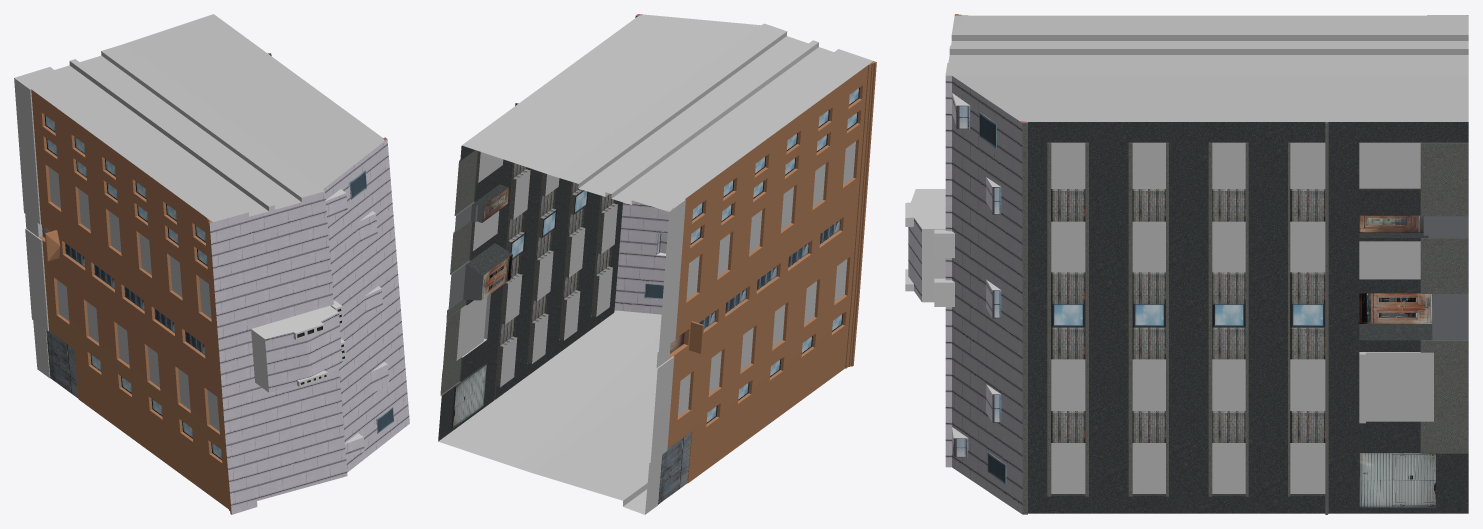
Rendered from Aia_5a.obj.
3 renders of one model, left to right at view 1: azimuth 30°, elevation 25°; view 2: azimuth 150°, elevation 25°; view 3: azimuth 270°, elevation 25°, orthographic. The views are drawn at different scales.
Visible parts, largest first — view 1: Aia5_A; view 2: Aia5_A; view 3: Aia5_A.
Part boxes in pixels (<box>): Aia5_A: <box>14,14,409,514</box>; Aia5_A: <box>438,14,876,514</box>; Aia5_A: <box>905,14,1468,514</box>.
Size of the model in its own units: 14.71 by 19.37 by 24.33.
